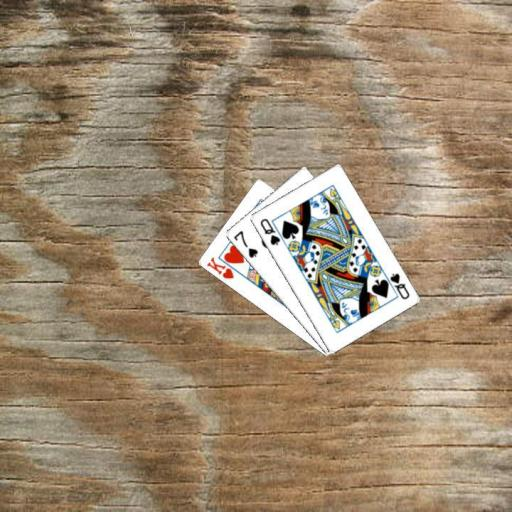7S: (230, 228, 260, 260)
KH: (204, 254, 236, 280)
QS: (257, 215, 282, 247), (386, 270, 410, 301)
